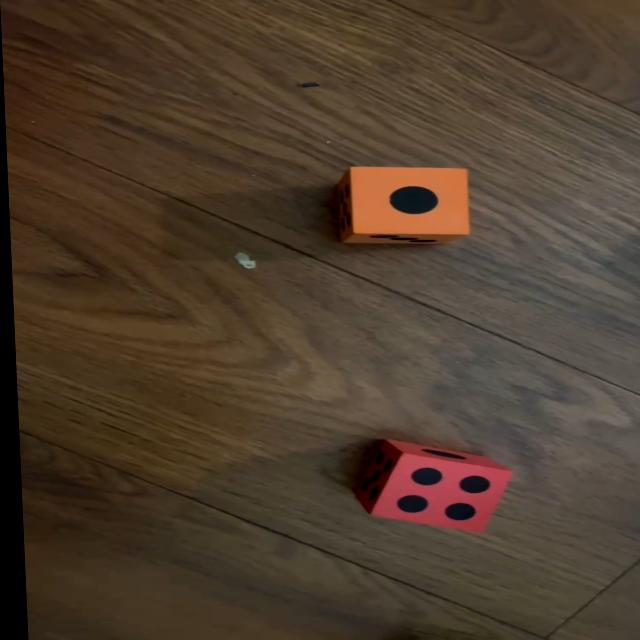cube: (349, 439, 508, 533)
